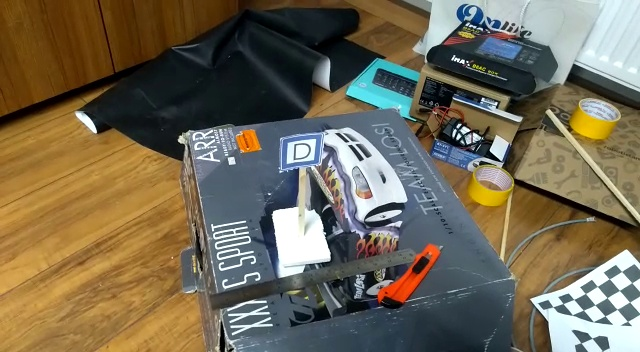durak: (272, 129, 330, 173)
